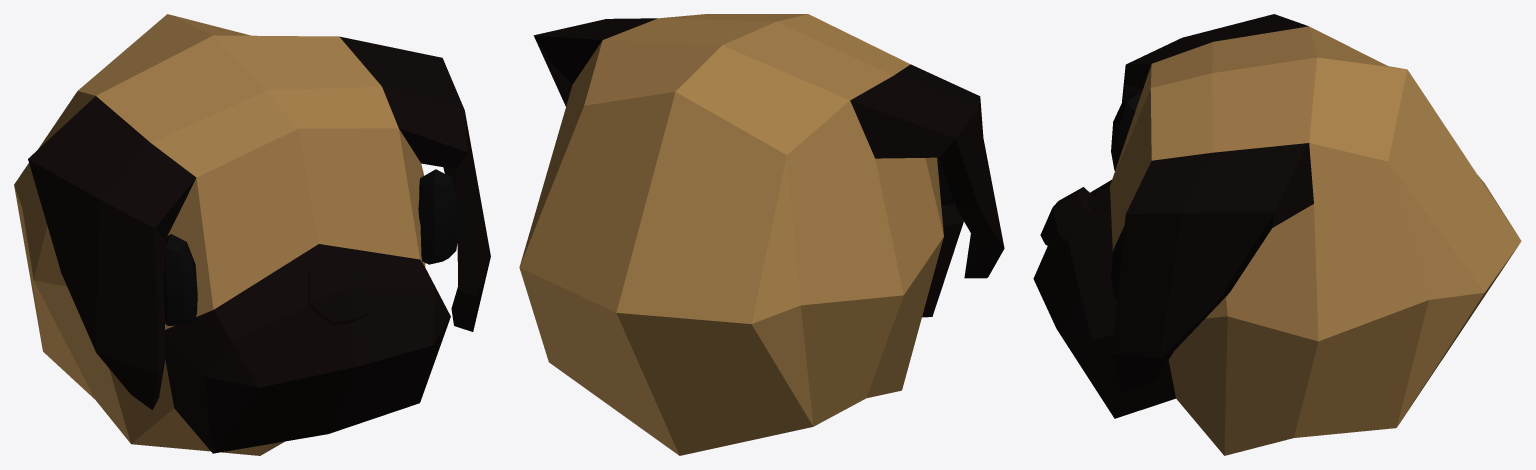
File: Head_Pug.FBX
The picture shows the model from 3 angles, left to right: view 1: azimuth 30°, elevation 25°; view 2: azimuth 150°, elevation 25°; view 3: azimuth 270°, elevation 25°; orthographic projection. The views are drawn at different scales.
Visible parts, largest first — view 1: Body; view 2: Body; view 3: Body.
Part boxes in pixels (x1,y1,x2,y2): Body: [14, 14, 490, 455]; Body: [519, 14, 1004, 455]; Body: [1033, 14, 1521, 455].
Bounding box in the file's own units: 36.62 × 32.59 × 38.
